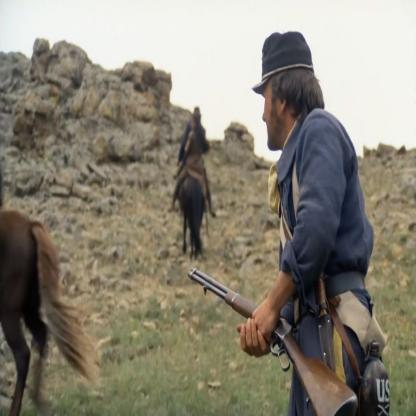gun: (182, 236, 351, 416)
